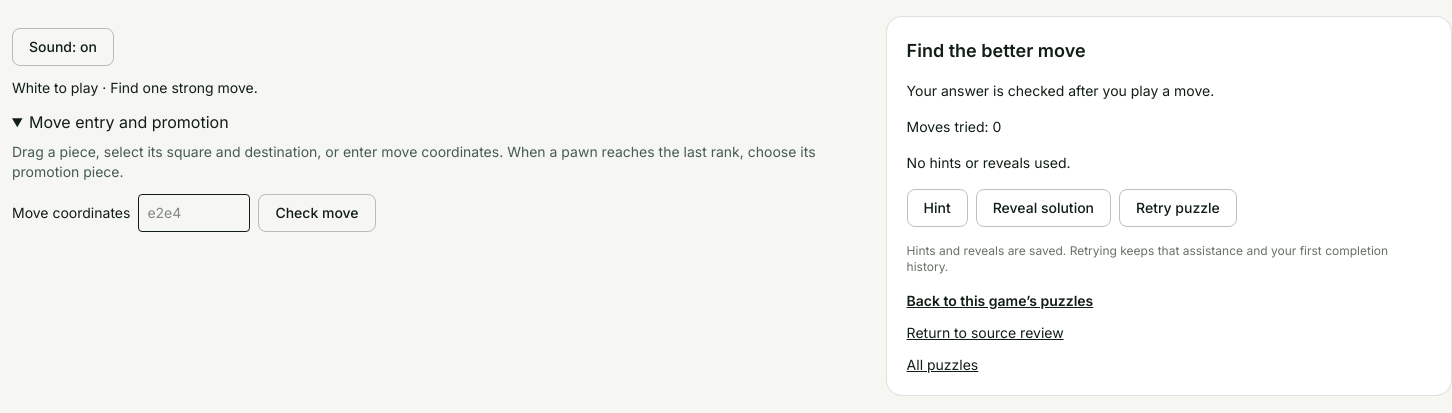
distinguishes illegal and incorrect moves while keeping the position playable
Step 1. Type "e2e5" into the field labelled "Move coordinates" → (194, 213), box 138,194 -> 250,232
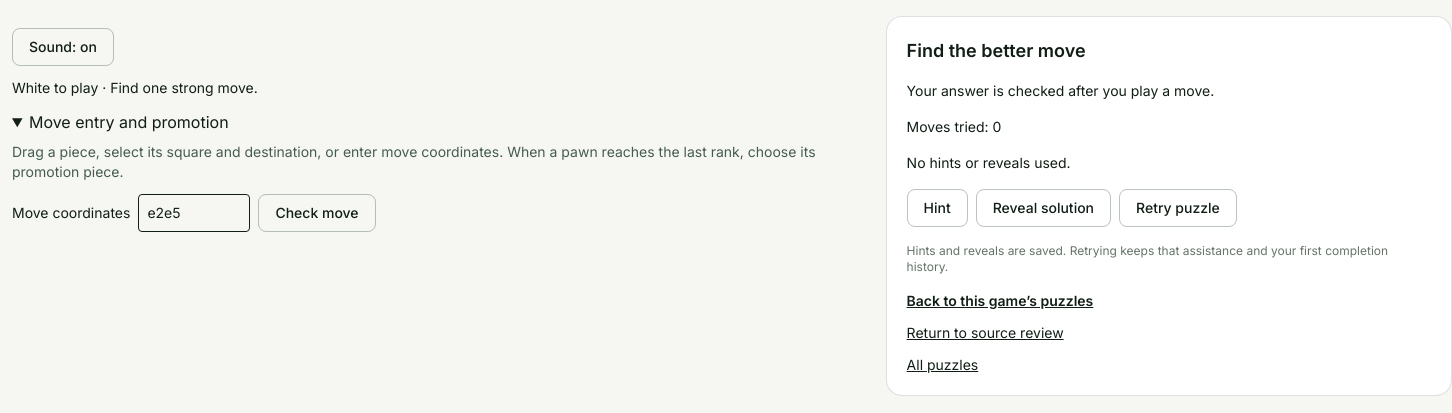
Step 2. Click the button "Check move" → (317, 213), box 258,194 -> 376,232
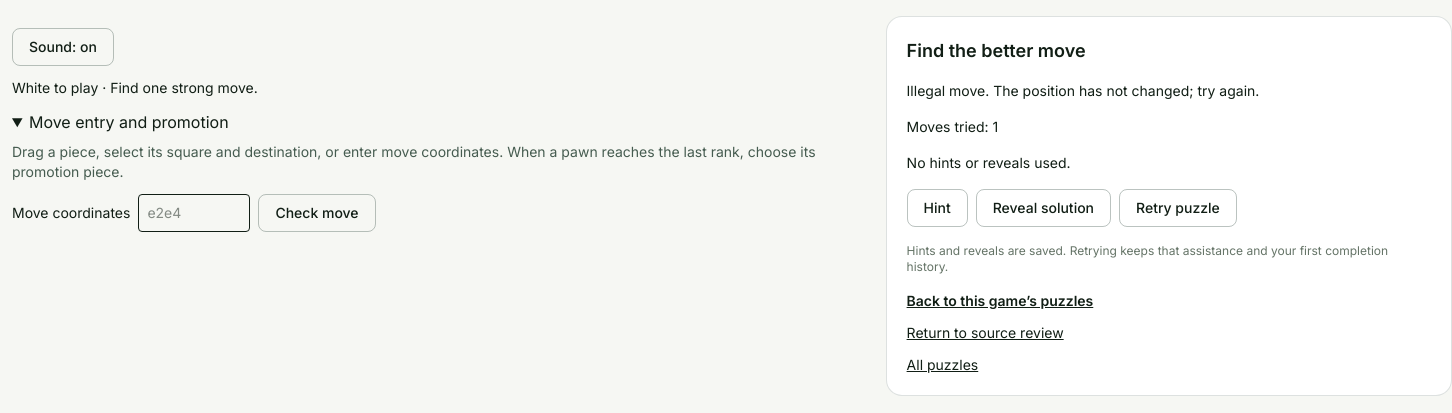
Result: the message named "Puzzle feedback" shows "Illegal move" at 907,82 -> 1259,99
Step 3. Type "g1f3" into the field labelled "Move coordinates" → (194, 213), box 138,194 -> 250,232
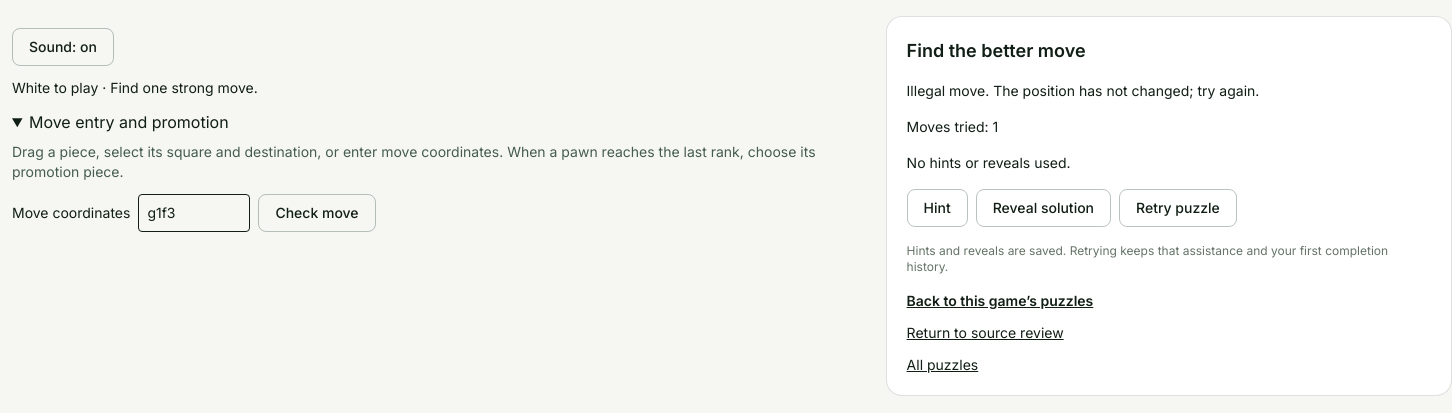
Step 4. Click the button "Check move" → (317, 213), box 258,194 -> 376,232
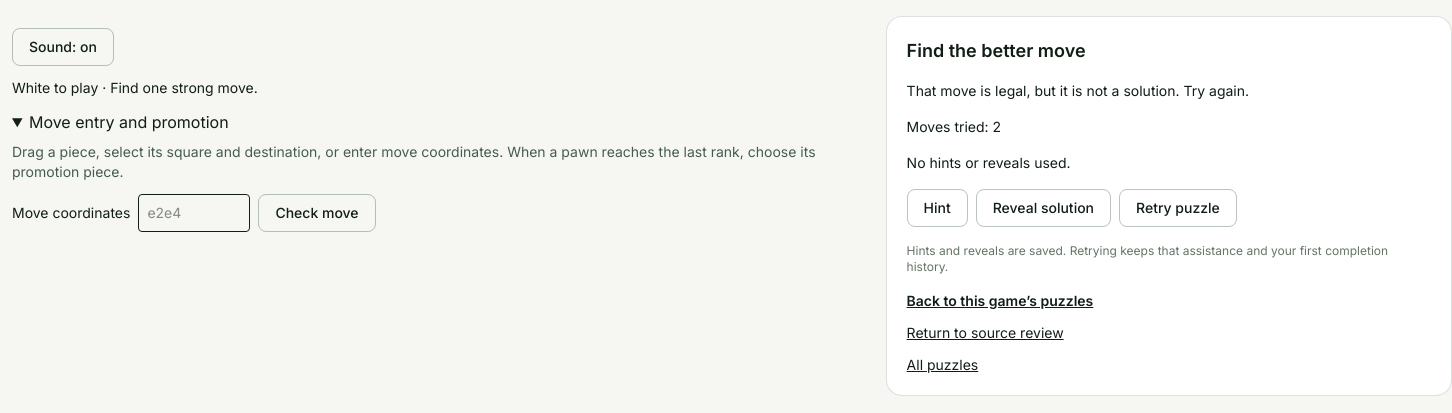
Result: the message named "Puzzle feedback" shows "legal, but it is not a solution" at 907,82 -> 1249,99
